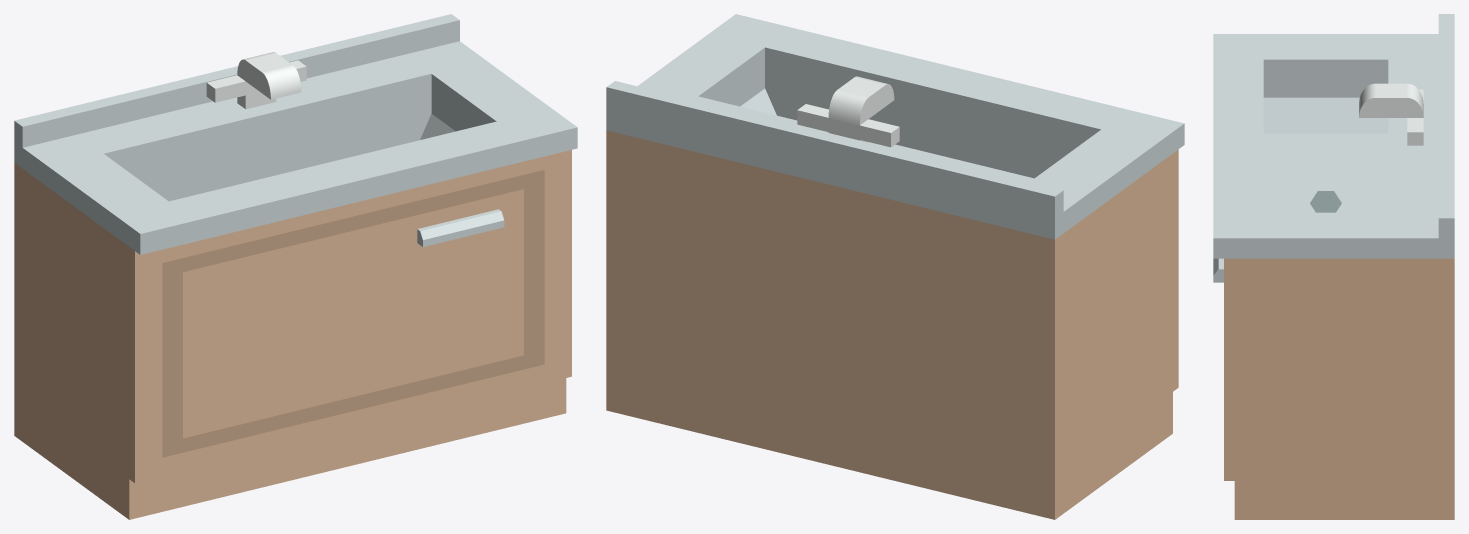
Rendered from kitchen-sink.glb.
3 views of the same model, side by side, from view 1: azimuth 30°, elevation 25°; view 2: azimuth 150°, elevation 25°; view 3: azimuth 270°, elevation 25° (orthographic). The views are drawn at different scales.
Parts seen in each view (by area): view 1: kitchenSink(Clone); view 2: kitchenSink(Clone); view 3: kitchenSink(Clone).
Boxes of the visible parts, x1,y1,x2,y2 form: kitchenSink(Clone): [14, 14, 577, 519]; kitchenSink(Clone): [606, 14, 1184, 519]; kitchenSink(Clone): [1213, 14, 1454, 519].
Size of the model in its own units: 1.2 by 0.9 by 0.6.
1 material, 1 textured.
